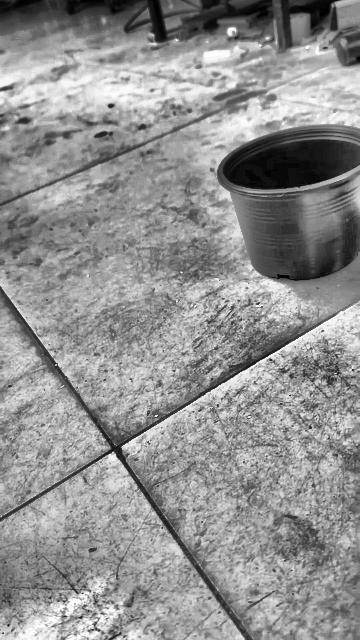pot: (217, 126, 360, 281)
